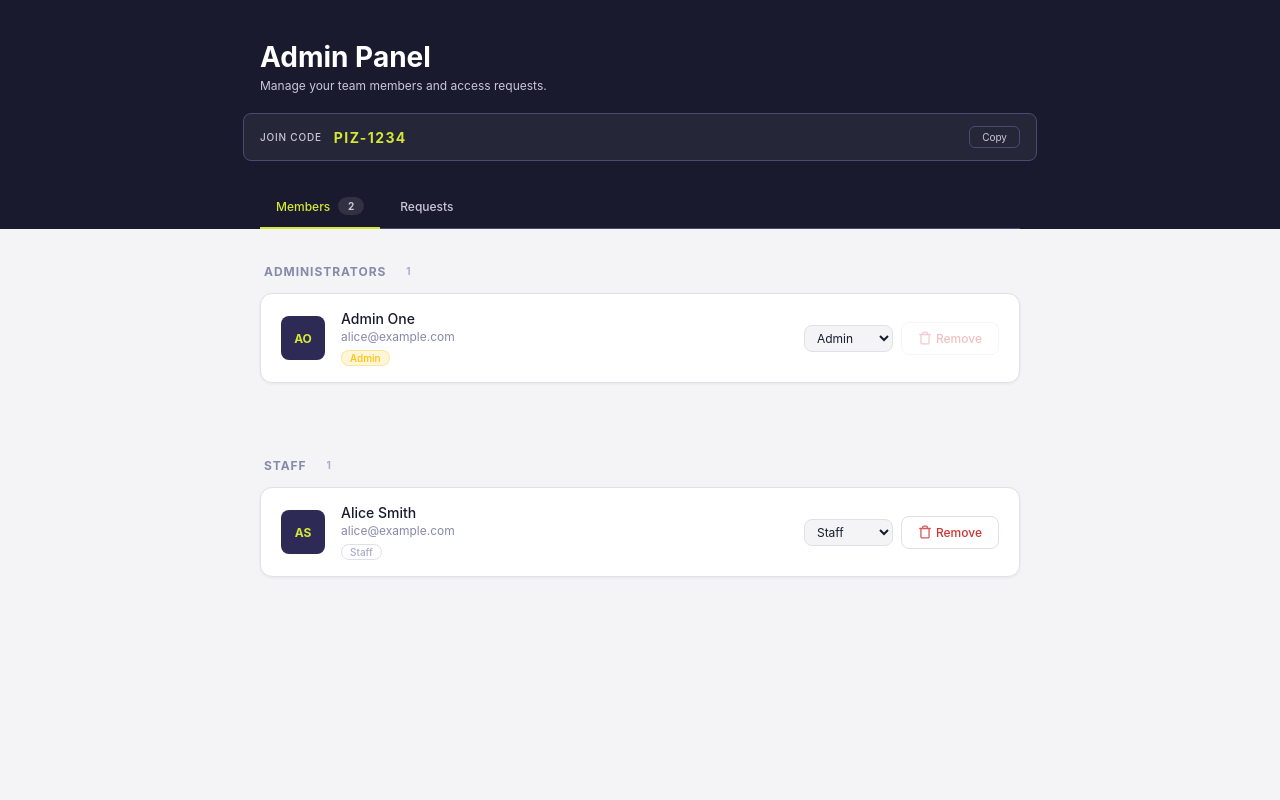
Scenario: AdminPanel › members tab › shows remove confirmation dialog on remove click
This screenshot has width=1280, height=800.
Staff member's remove button should be enabled
Click the button with class "action-btn--remove" in the row of "AS" at (950, 532), box [901,516,999,548]
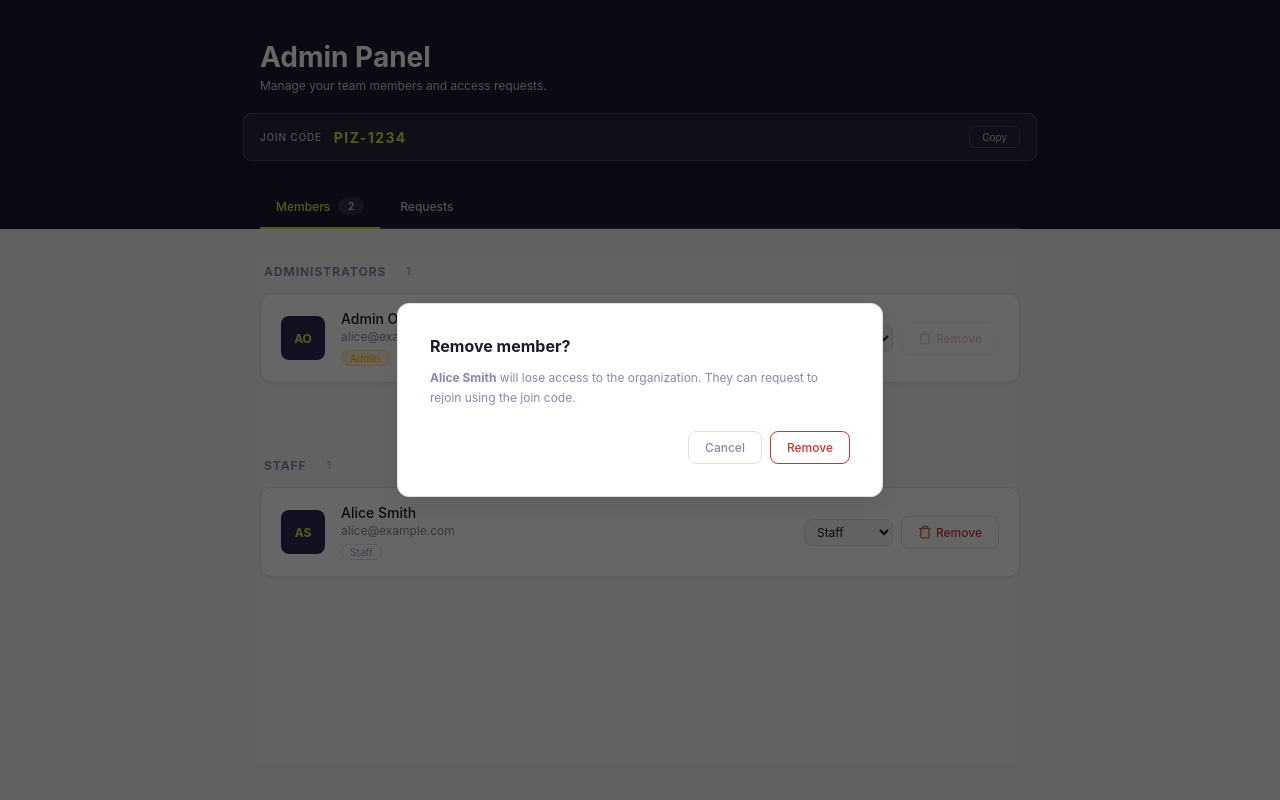
Expected: the text "Alice Smith" is shown, [341,504,416,521]
Now the element with class "dialog-overlay" is shown
